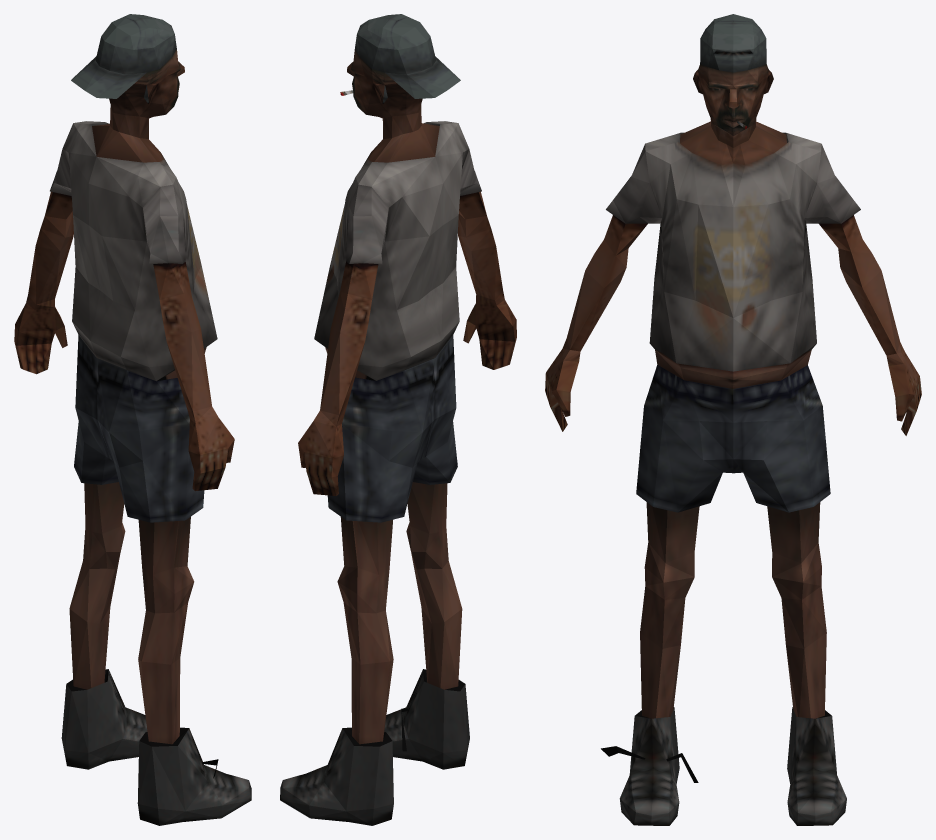
File: sbmotr2.obj
3 renders of one model, left to right at view 1: azimuth 30°, elevation 25°; view 2: azimuth 150°, elevation 25°; view 3: azimuth 270°, elevation 25°, orthographic.
Parts seen in each view (by area): view 1: _Pelvis; view 2: _Pelvis; view 3: _Pelvis.
Part boxes in pixels (x1,y1,x2,y2): _Pelvis: (14,14,251,825); _Pelvis: (280,14,516,825); _Pelvis: (545,14,921,825).
Bounding box in the file's own units: 0.3079 × 1.69 × 0.7438.
Materials: 1 (1 with a texture image).
